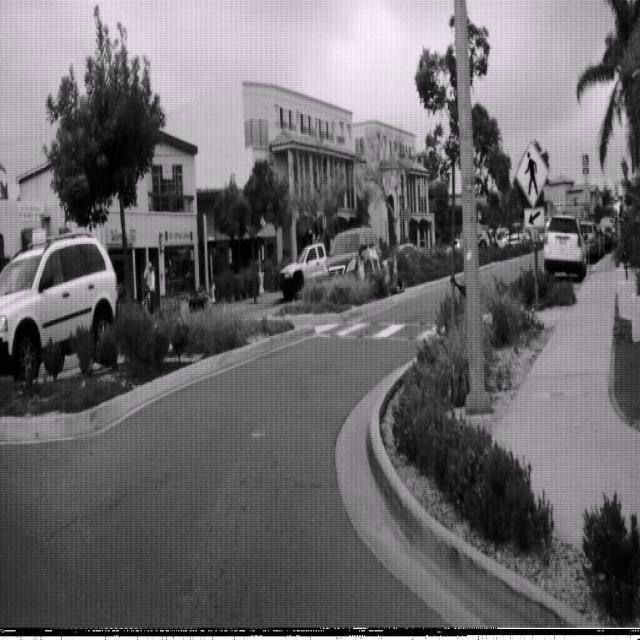pedestrianCrossing: (515, 138, 550, 208)
